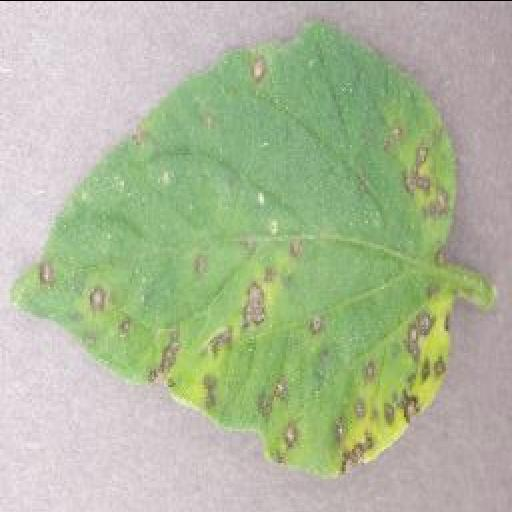disease_tomato: (10, 22, 456, 474)
